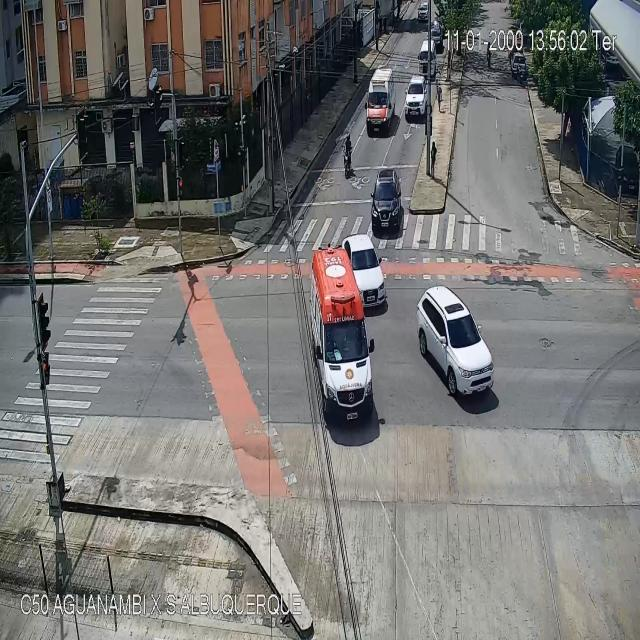Car: (306, 247, 376, 424), (417, 286, 496, 399), (343, 234, 388, 314), (371, 170, 403, 236), (364, 68, 395, 133), (404, 74, 428, 117), (418, 40, 436, 80), (512, 53, 526, 76), (428, 20, 440, 43)
Motorcycle: (343, 131, 352, 180), (516, 61, 524, 82)
